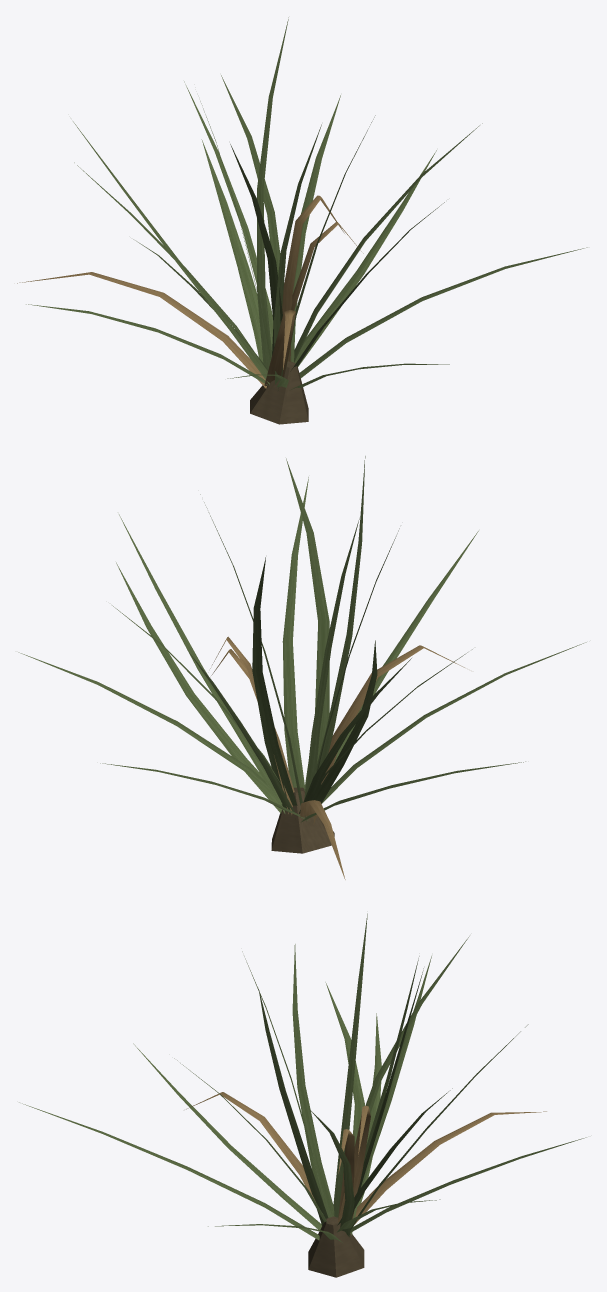
File: SM_CN_Yucca_B_LOD1.glb
The picture shows the model from 3 angles, top to bottom: view 1: azimuth 30°, elevation 25°; view 2: azimuth 150°, elevation 25°; view 3: azimuth 270°, elevation 25°; orthographic projection. The views are drawn at different scales.
Visible parts, largest first — view 1: SM_CN_Yucca_B_LOD1; view 2: SM_CN_Yucca_B_LOD1; view 3: SM_CN_Yucca_B_LOD1.
Boxes of the visible parts, left/top/right/bottom form: SM_CN_Yucca_B_LOD1: left=17, top=17, right=587, bottom=424; SM_CN_Yucca_B_LOD1: left=18, top=456, right=586, bottom=879; SM_CN_Yucca_B_LOD1: left=19, top=913, right=586, bottom=1277.
Bounding box in the file's own units: 1.48 × 1.05 × 1.64.
2 materials, 2 textured.
